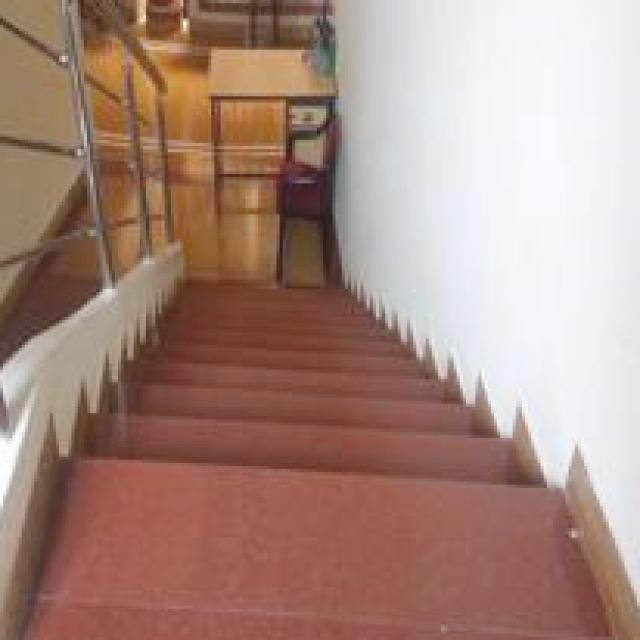downstair: (79, 312, 582, 526)
